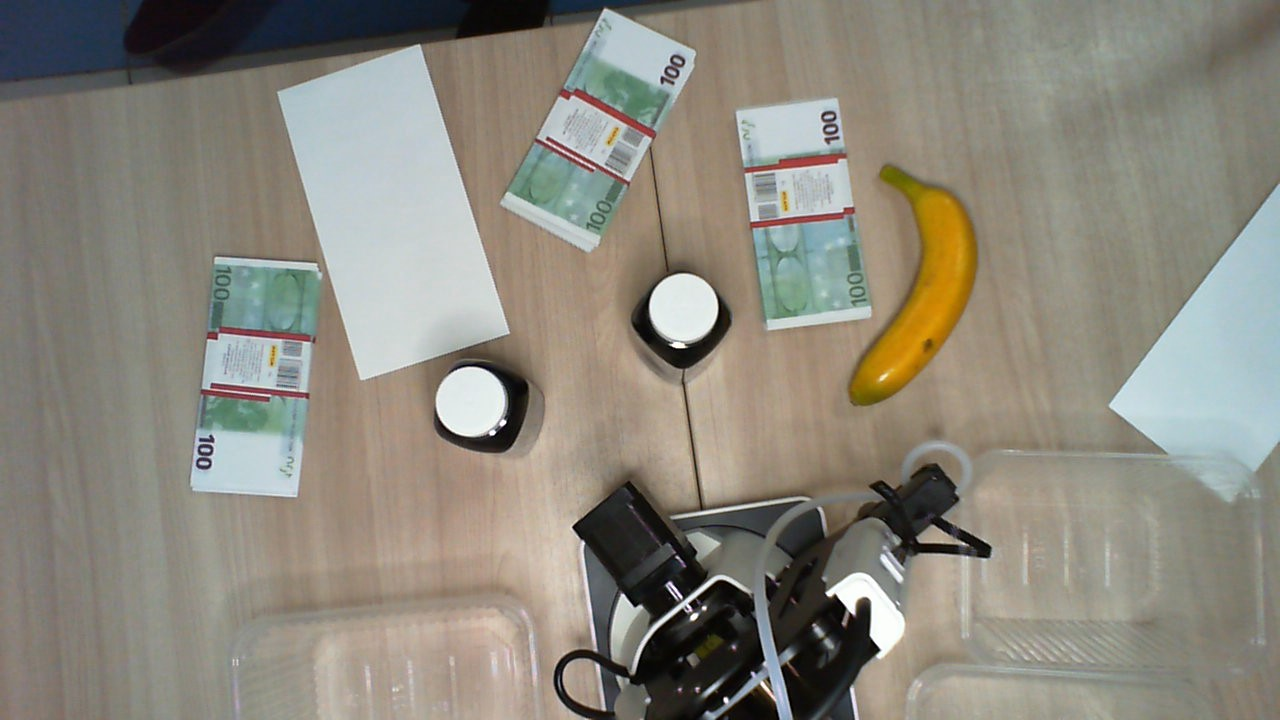banana: (848, 163, 978, 410)
bottle: (625, 271, 730, 373), (432, 360, 529, 450)
convert: (279, 42, 510, 380), (1106, 180, 1279, 501)
money: (503, 8, 698, 250), (190, 255, 323, 499), (735, 98, 872, 332)
